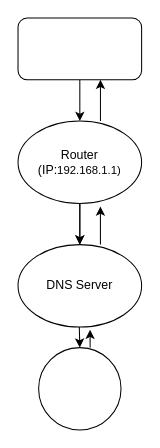
This 160x448 diagram has some shape labels left out. Here are the shapes that lost their labels. From the top down, the box of each, then its label:
(17, 17, 142, 80): My Device Laptop
(38, 347, 121, 430): Google server
